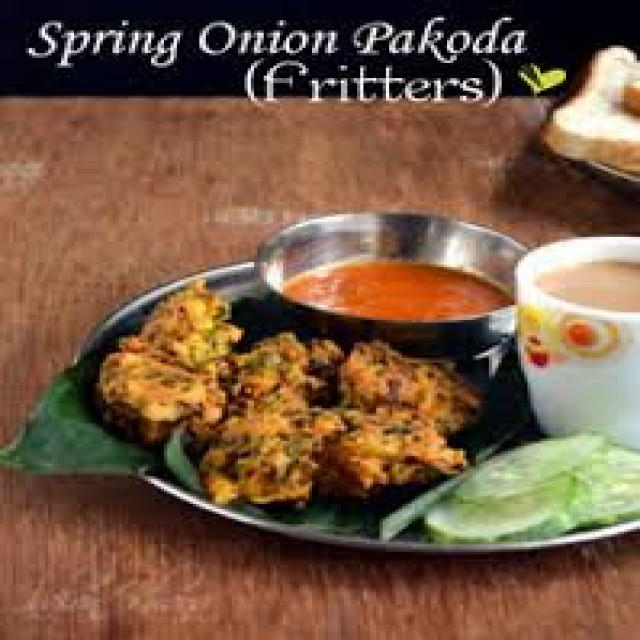BAJI: (96, 282, 476, 504)
